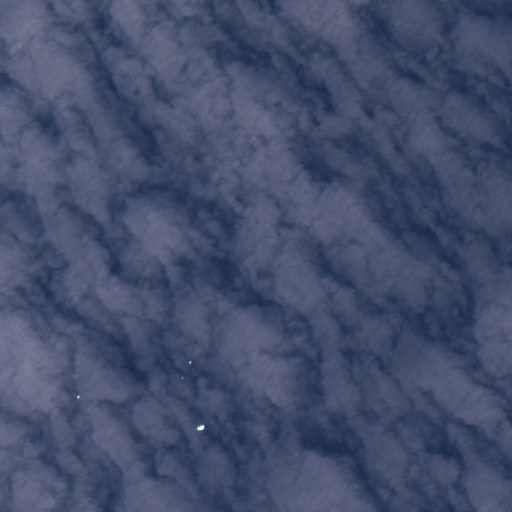Iceberg: (197, 425, 204, 430), (76, 395, 79, 398), (188, 361, 191, 363), (181, 376, 183, 378)
